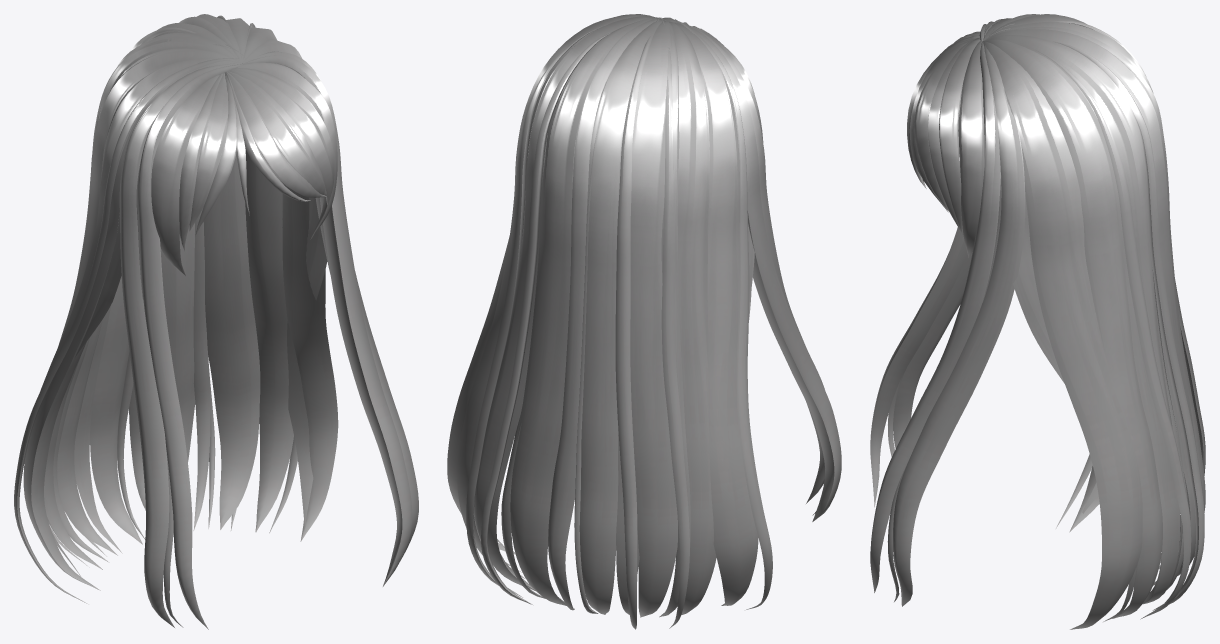
File: hair.glb
3 views of the same model, side by side, from view 1: azimuth 30°, elevation 25°; view 2: azimuth 150°, elevation 25°; view 3: azimuth 270°, elevation 25° (orthographic).
Parts seen in each view (by area): view 1: Hair; view 2: Hair; view 3: Hair.
Boxes of the visible parts, <box> form: Hair: <box>14,14,418,629</box>; Hair: <box>447,14,841,629</box>; Hair: <box>870,14,1205,629</box>.
Size of the model in its own units: 0.3133 by 0.52 by 0.2817.
Materials: 1 (1 with a texture image).
